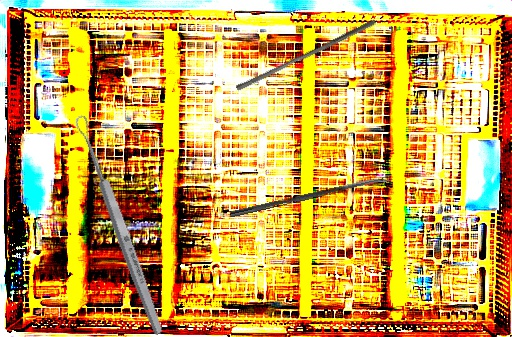Pusher: (235, 13, 377, 97)
Surgical Spoon: (72, 113, 167, 337), (229, 174, 393, 219)
